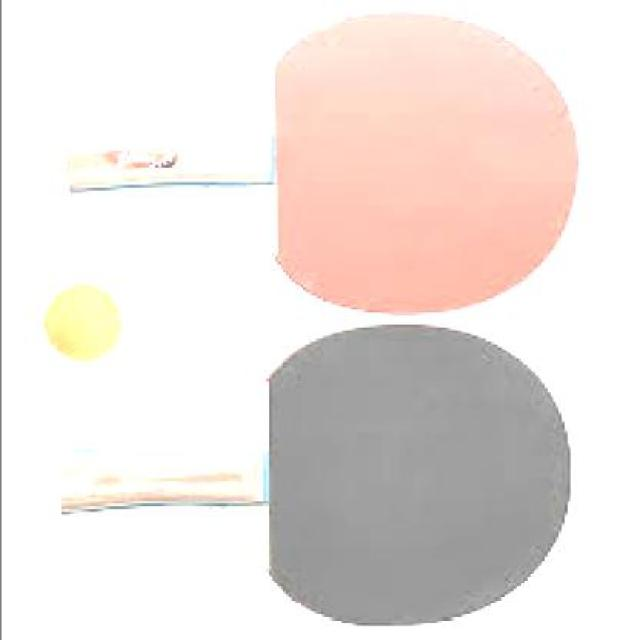table_tennis_racket: (201, 7, 582, 321), (226, 320, 574, 631)
